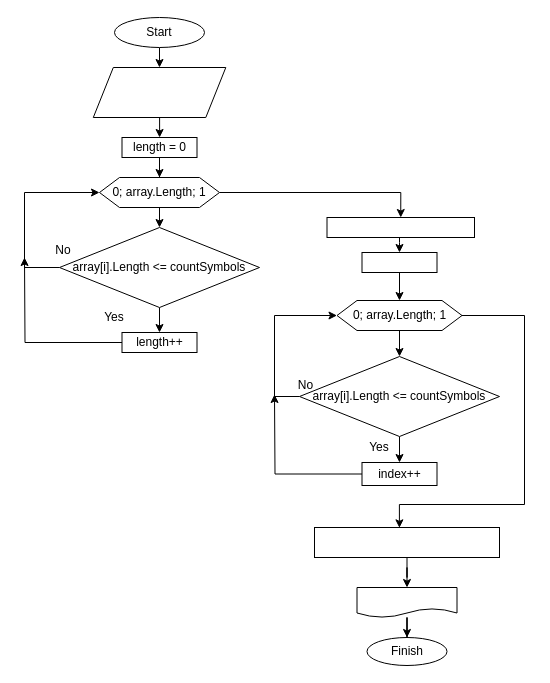
The diagram is 550 pixels wide and 683 high, and some of its shapes have lost their labels. Each missing label, with the centre of its shape:
"array array.Length countSymbols" belongs at point (159, 92).
"index = 0" belongs at point (399, 262).
"secondaryArray" belongs at point (406, 602).
"secondaryArray[index] = array[i]" belongs at point (407, 542).
"secondaryArray[length]" belongs at point (400, 227).
